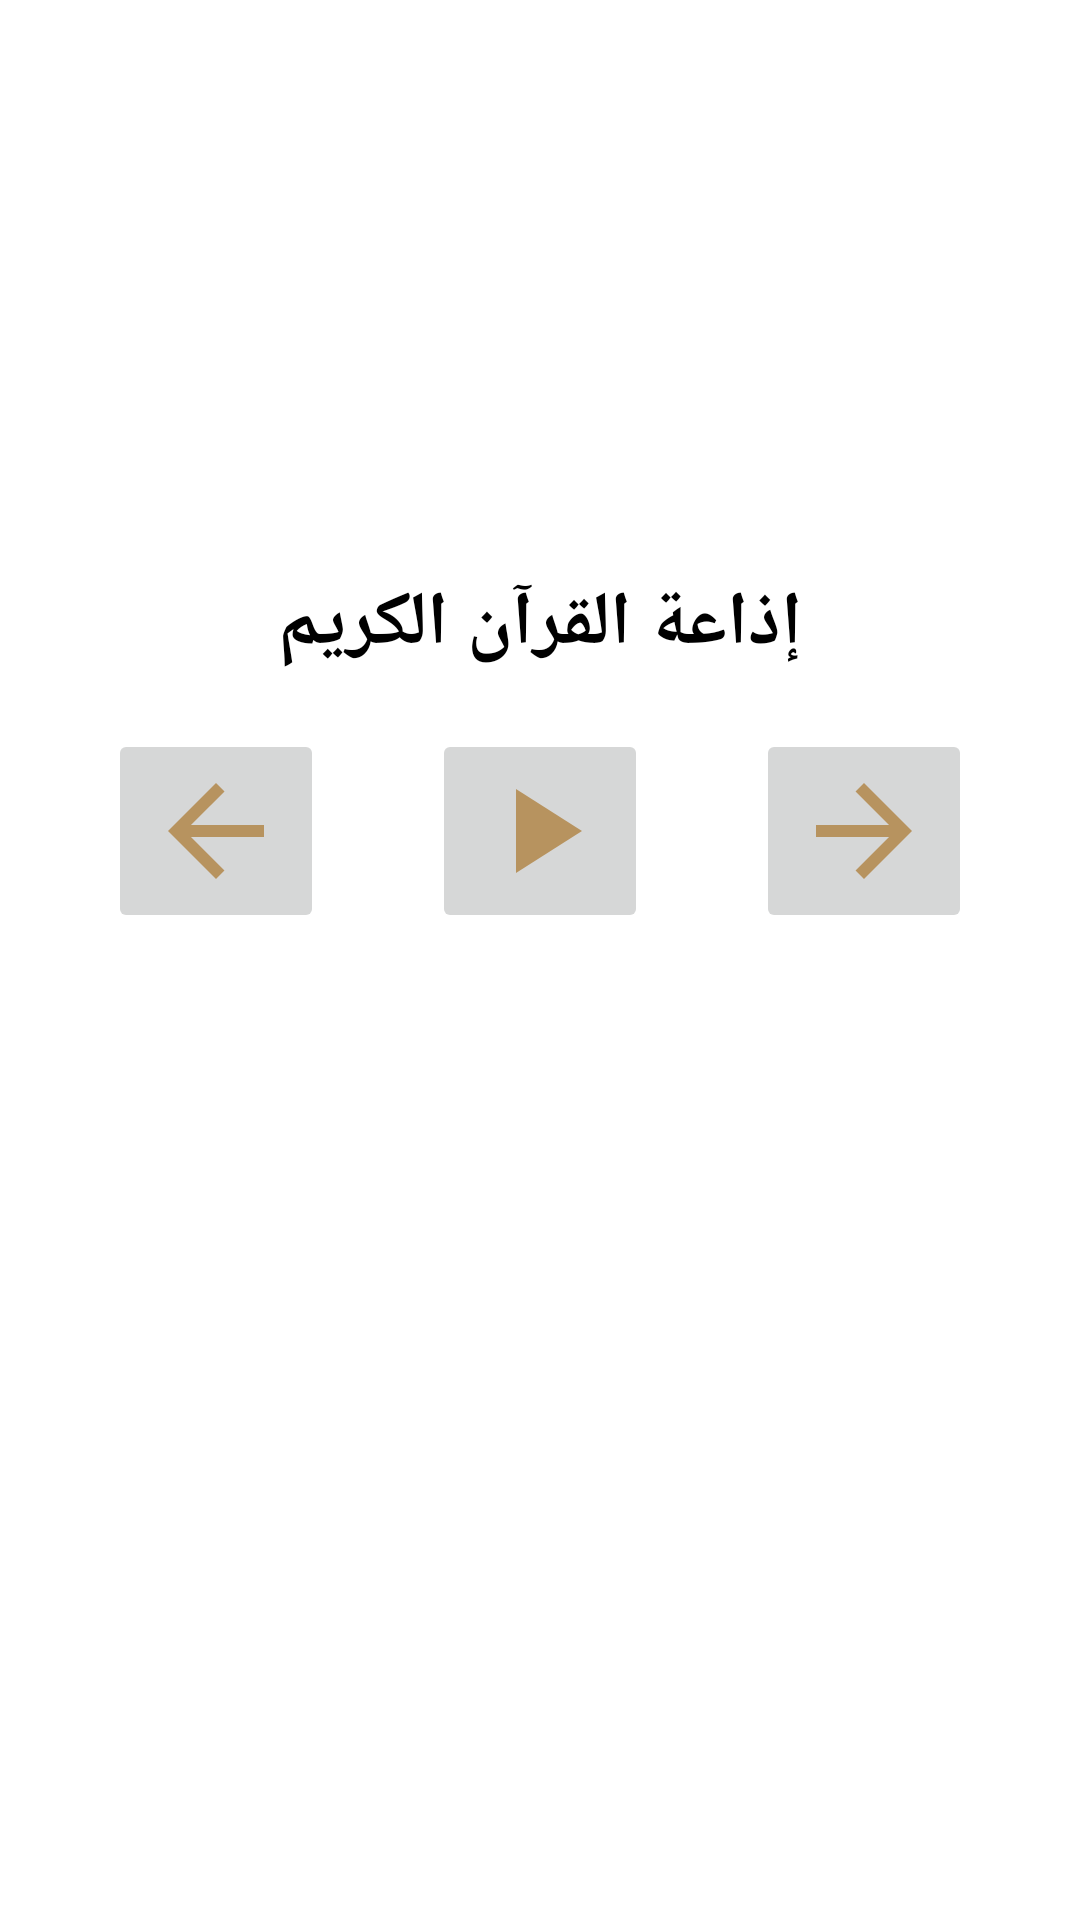

Locate icon controls on the screen. Image size 1080x1920, boxes as (x1=x1, y1=y1, x2=x2, y2=y2).
arrow back: (x1=120, y1=747, x2=312, y2=915)
arrow forward: (x1=768, y1=747, x2=960, y2=915)
play arrow: (x1=444, y1=747, x2=636, y2=915)
